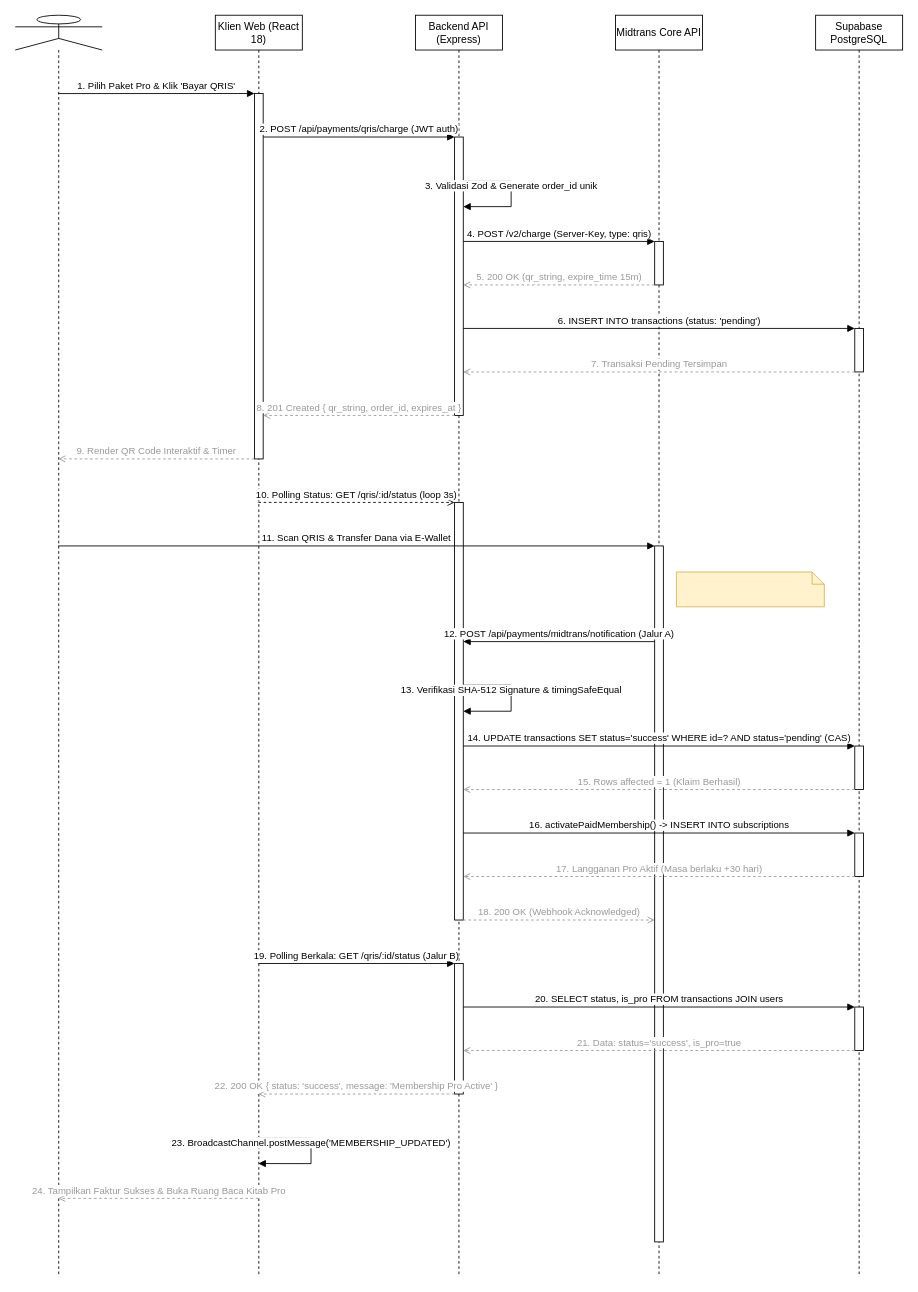
This 918x1292 diagram has some shape labels left out. Each missing label, with the box of its shape:
Dua Jalur Penyelesaian: Webhook (A) dan Polling Otoritatif (B): (676, 571, 824, 607)
Pengguna (PWA): (14, 14, 102, 1277)
